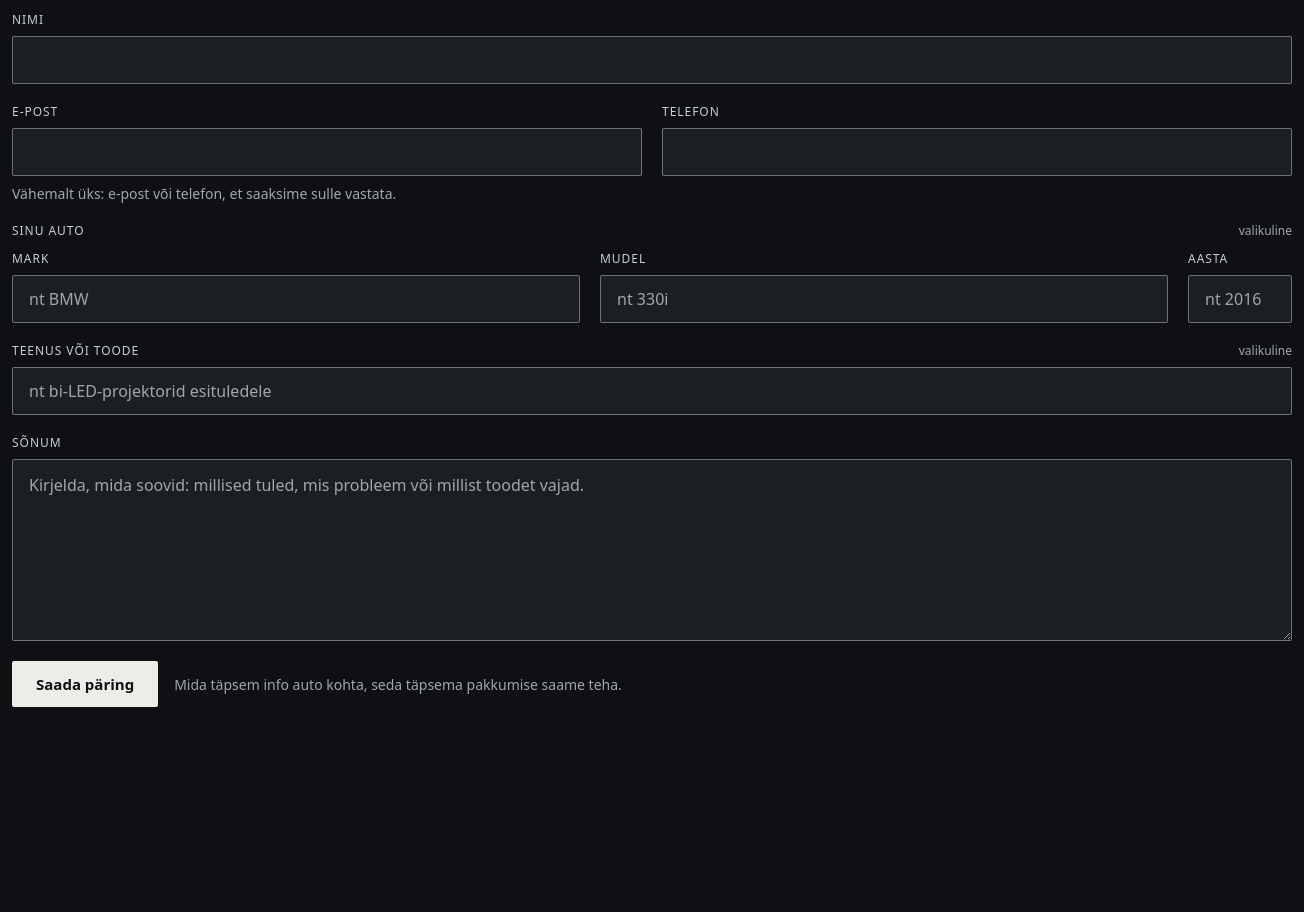
it: InquiryForm › when the action fails in transport › shows the phone and email fallback and keeps the typed message instead of crashing
Type "Mari Maasikas" into the field labelled "Nimi".
click(652, 60); type("Mari Maasikas")  # box [12,36,1292,84]
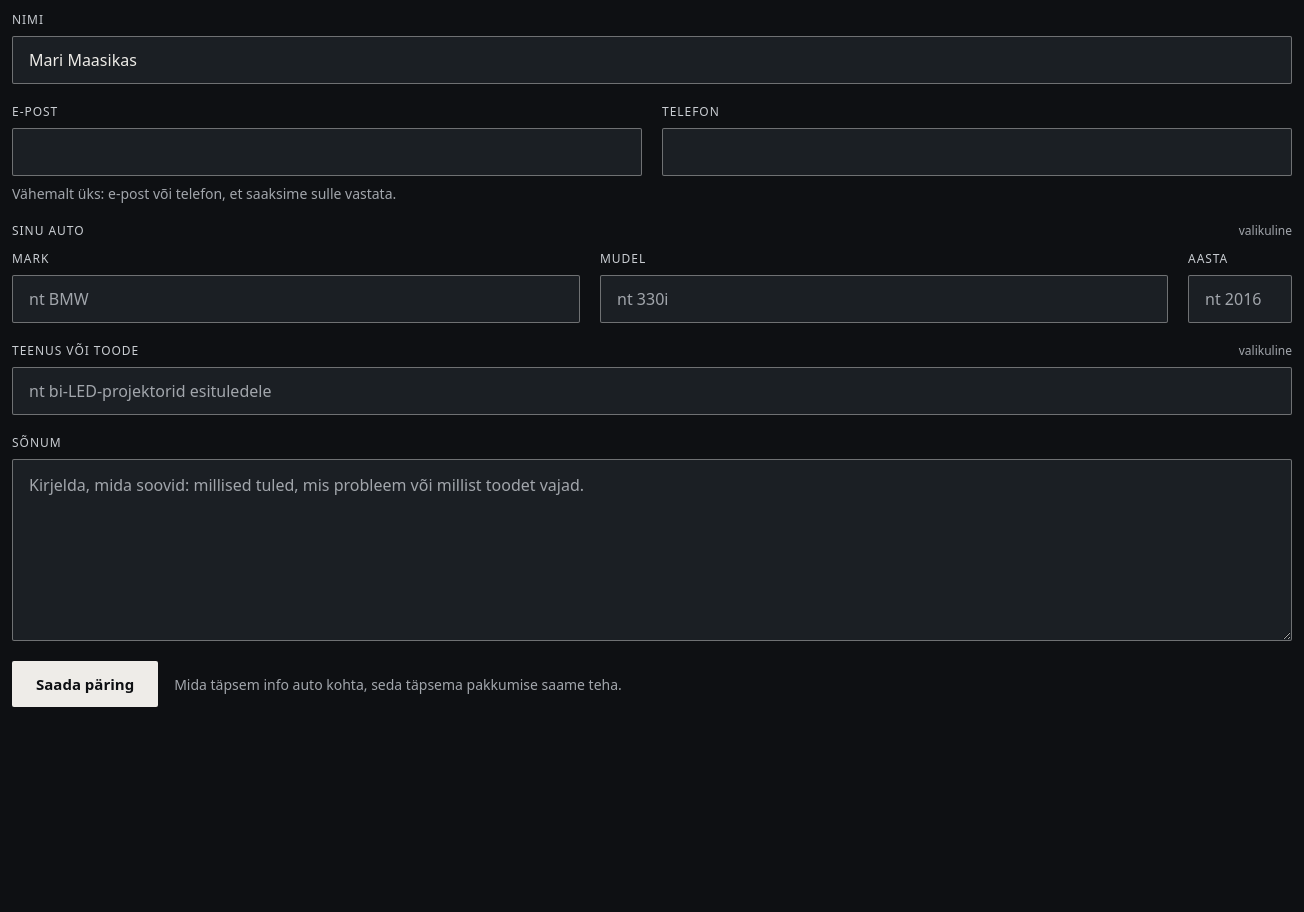
Type "mari@example.com" into the field labelled "E-post".
click(327, 152); type("mari@example.com")  # box [12,128,642,176]
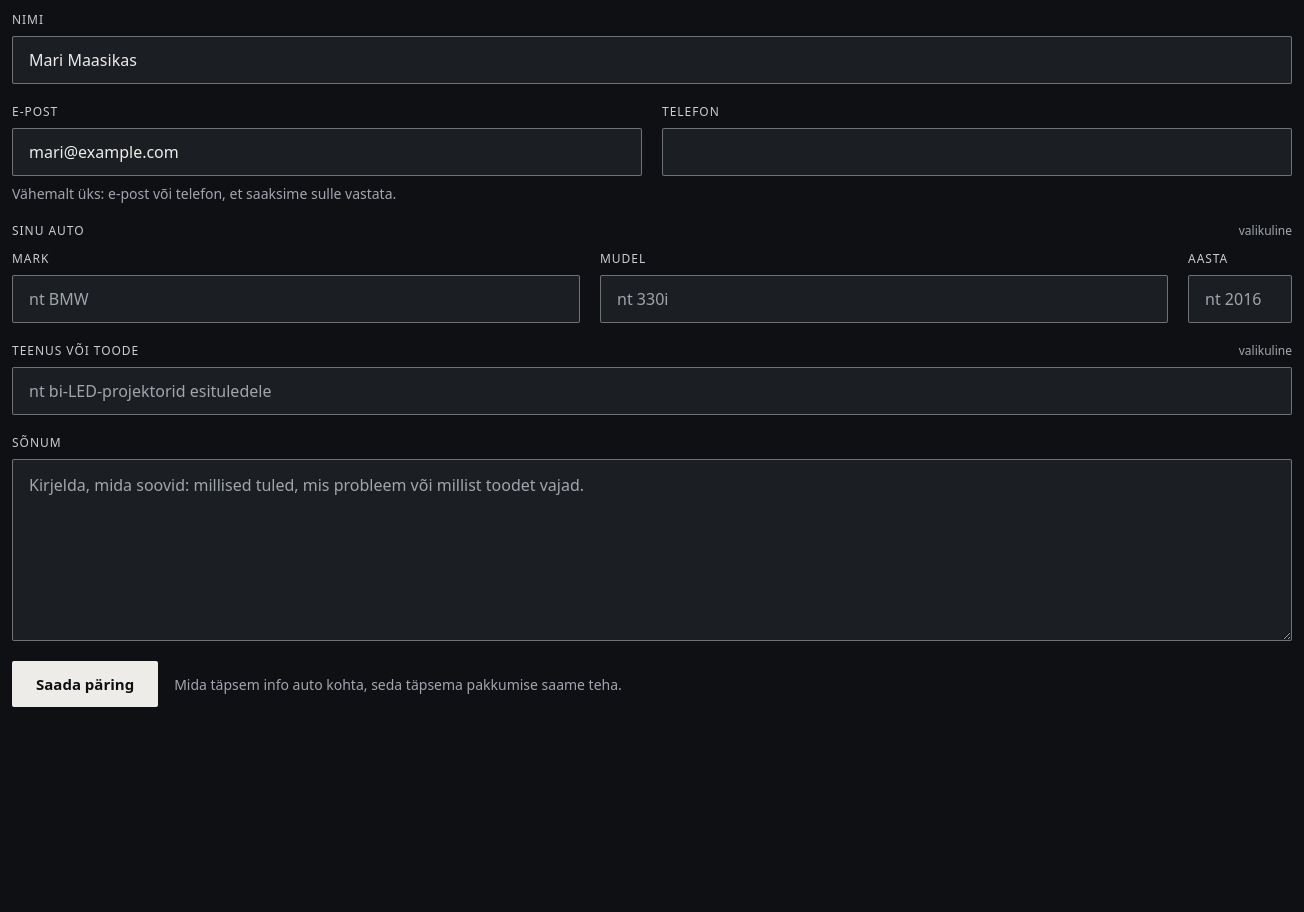
Replace the text in the text box labelled "Sõnum" with "Tahaksin hinnapakkumist." at (652, 550), box [12,459,1292,641]
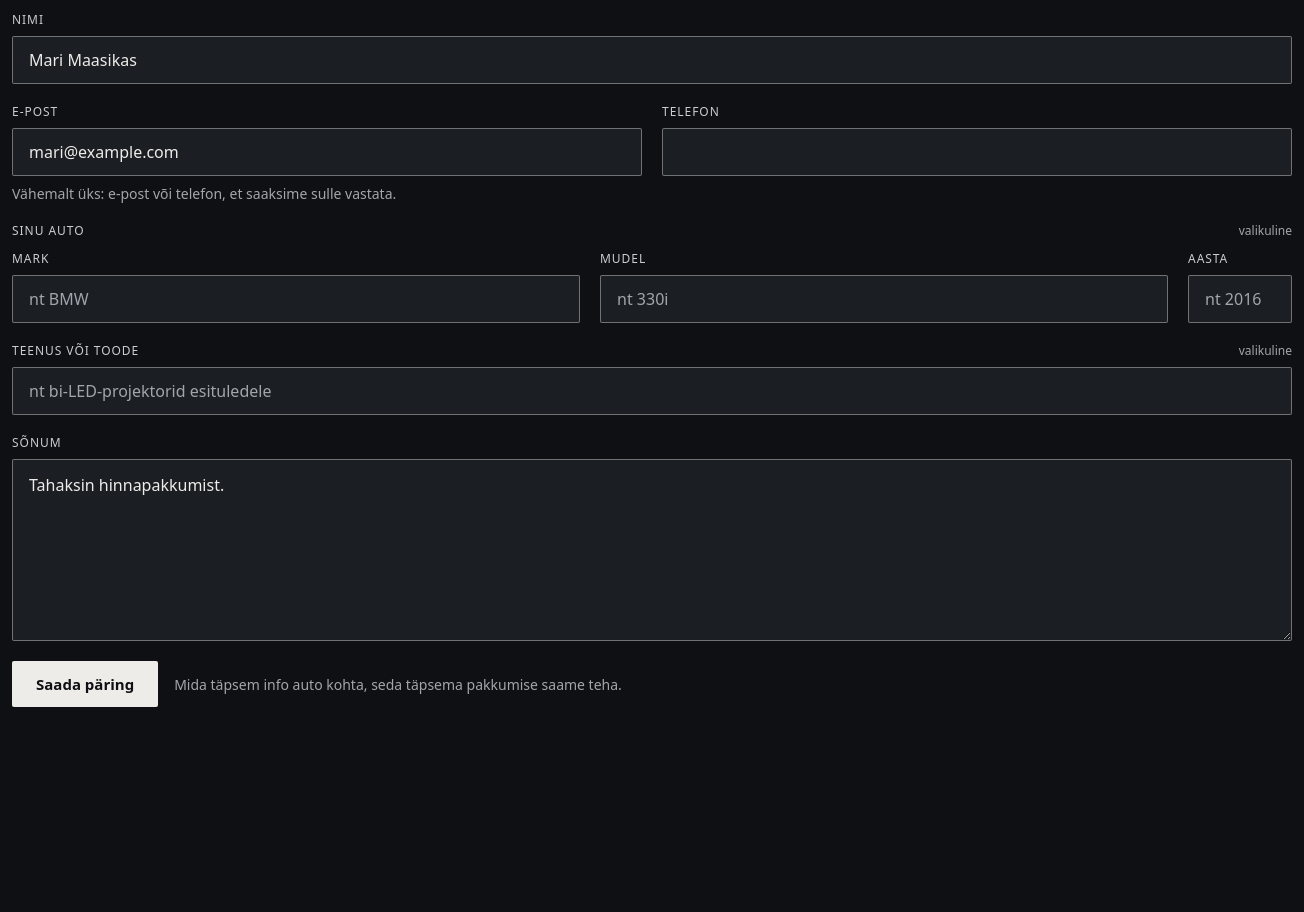
Submit the form
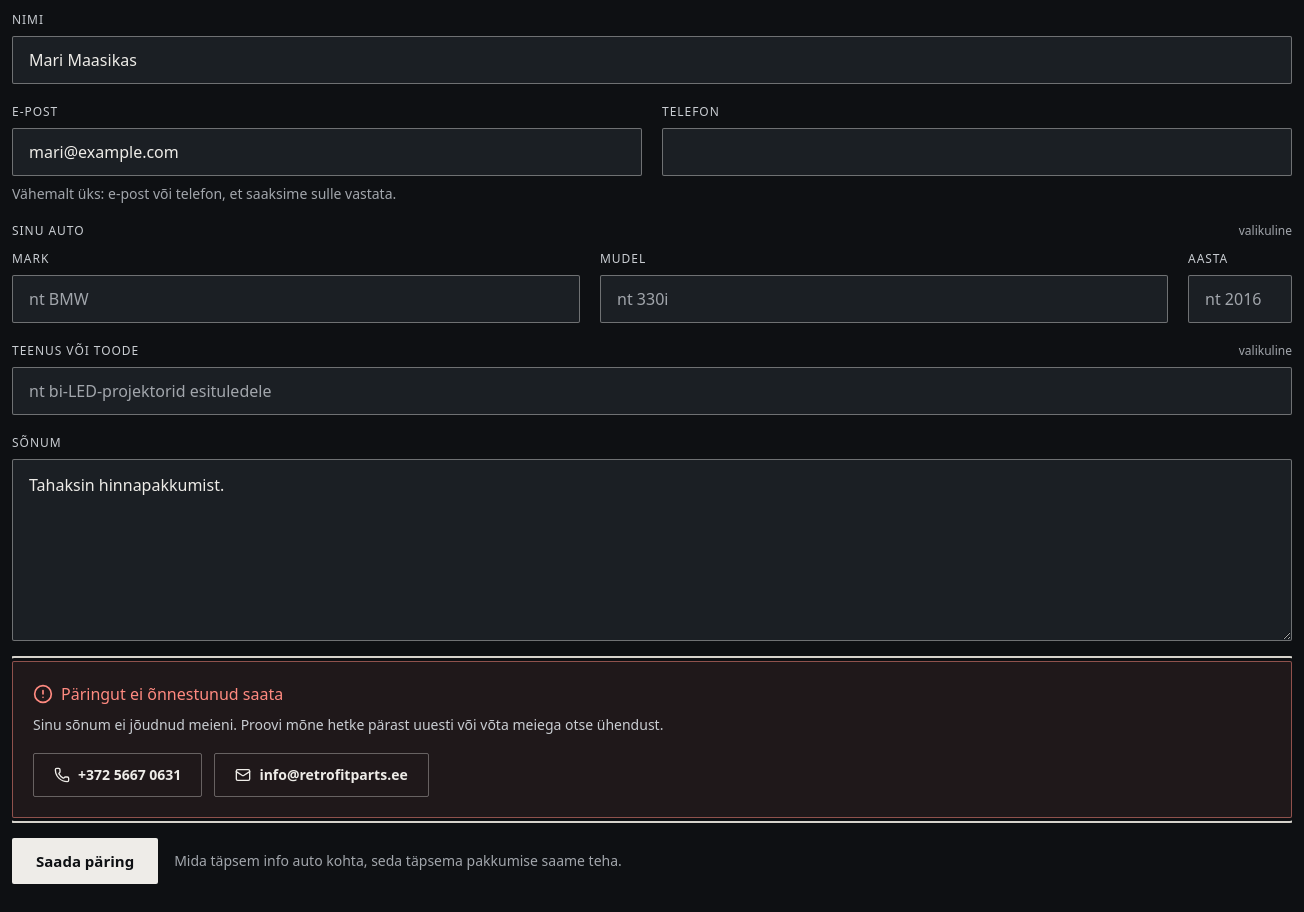
Check: the button "Saada päring" is enabled, box [12,838,158,884]
Check: the message shows "Päringut ei õnnestunud saata", box [61,683,283,705]
